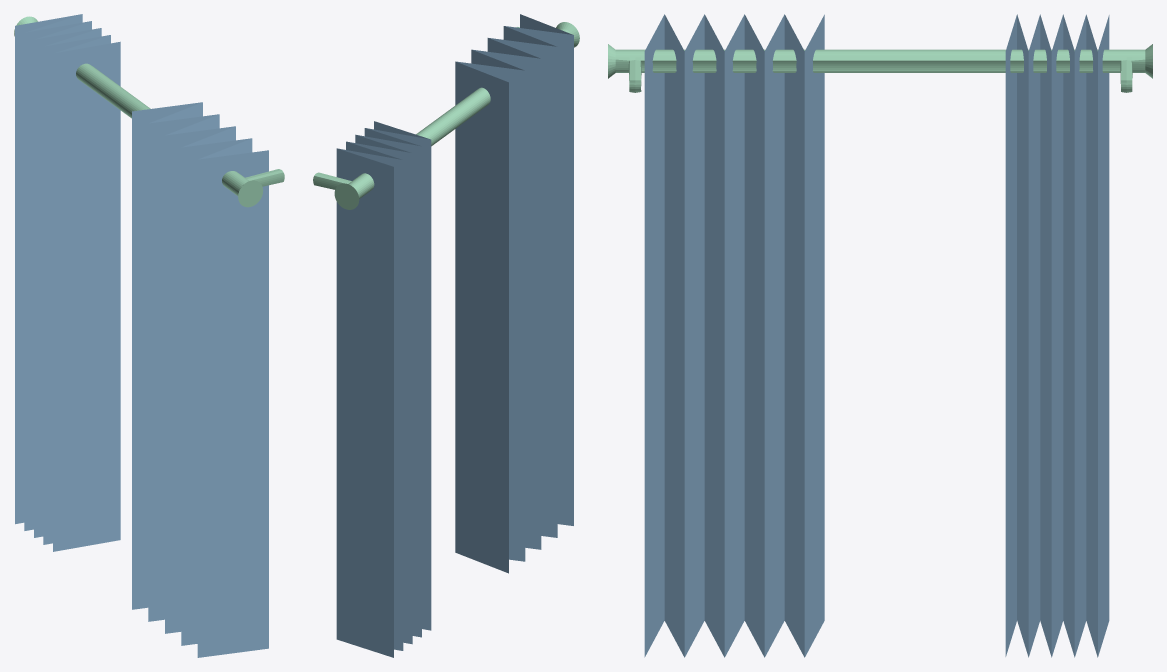
The model's file is room.fbx_curtain.fbx.
3 renders of one model, left to right at view 1: azimuth 30°, elevation 25°; view 2: azimuth 150°, elevation 25°; view 3: azimuth 270°, elevation 25°, orthographic. The views are drawn at different scales.
Parts seen in each view (by area): view 1: curtains, curtain-pole; view 2: curtains, curtain-pole; view 3: curtains, curtain-pole.
Part boxes in pixels (x1,y1,x2,y2): curtains: (15, 14, 268, 657); curtain-pole: (14, 16, 284, 207); curtains: (336, 14, 573, 657); curtain-pole: (313, 22, 579, 209); curtains: (644, 14, 1109, 657); curtain-pole: (608, 44, 1152, 92).
Size of the model in its own units: 0.6186 by 4.05 by 3.29.
